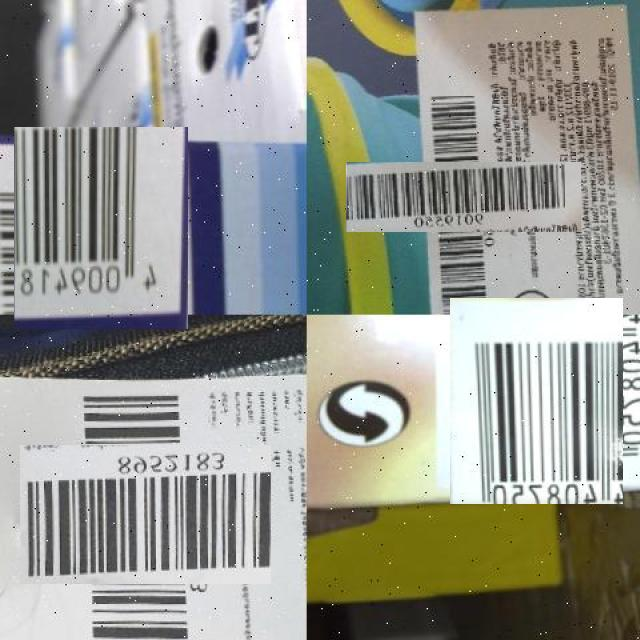Barcode: (48, 416, 243, 612), (442, 306, 631, 497), (7, 134, 196, 322), (387, 121, 540, 274)
